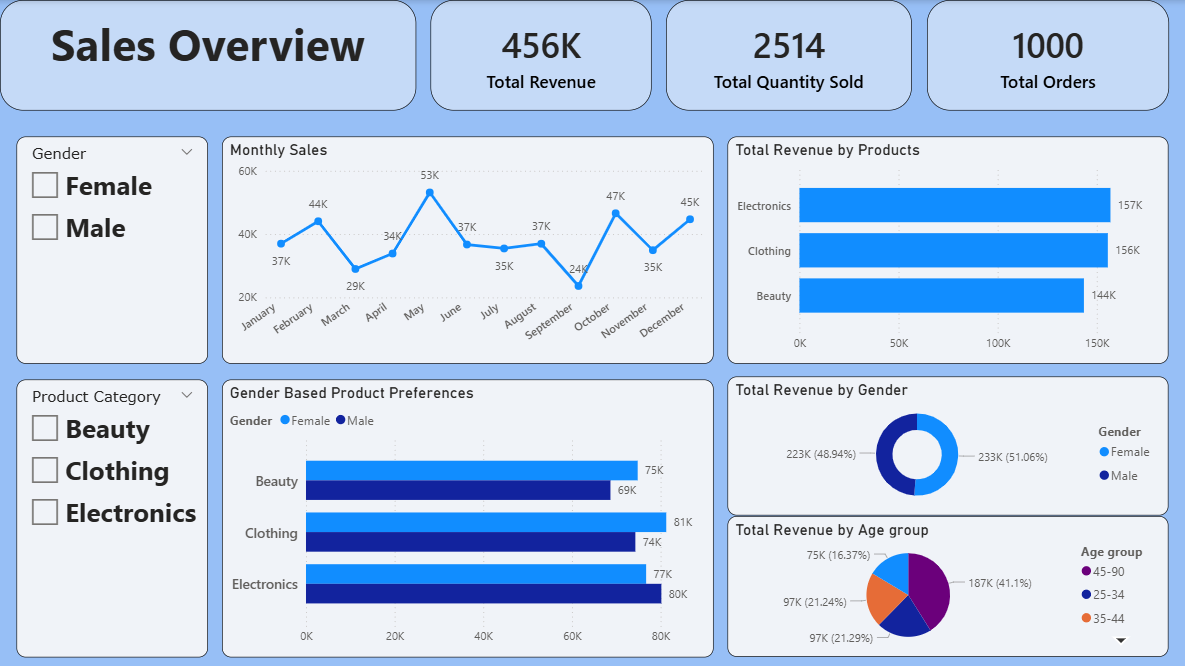

The dashboard page shown, as its layout file describes it:
{"tool":"powerbi","page":{"name":"Page 1","canvas":[1280,720],"ordinal":0},"visuals":[{"type":"card","fields":{"Values":["retail_sales_dataset.Total Revenue"]},"box":[465.1,0,239,119.5],"z":0},{"type":"card","fields":{"Values":["retail_sales_dataset.Total Quantity Sold"]},"box":[719.7,0,265.3,119.5],"z":1000},{"type":"card","fields":{"Values":["retail_sales_dataset.Total Orders"]},"box":[1000.5,0,261.3,119.5],"z":2000},{"type":"textbox","box":[0,0,449.6,119.5],"z":3000},{"type":"lineChart","title":"Monthly Sales","fields":{"Category":["retail_sales_dataset.Date.Variation.Date Hierarchy.Month"],"Y":["retail_sales_dataset.Total Revenue"]},"box":[239,147.8,530.6,245.1],"z":3001},{"type":"clusteredBarChart","title":"Total Revenue by Products","fields":{"Category":["retail_sales_dataset.Product Category"],"Y":["retail_sales_dataset.Total Revenue"]},"box":[785.8,147.8,475.9,245.1],"z":3002},{"type":"donutChart","fields":{"Category":["retail_sales_dataset.Gender"],"Y":["retail_sales_dataset.Total Revenue"]},"box":[785.8,407.1,475.9,149.9],"z":3003},{"type":"pieChart","fields":{"Category":["retail_sales_dataset.Age group"],"Y":["retail_sales_dataset.Total Revenue"]},"box":[785.8,557,475.9,151.9],"z":3004},{"type":"clusteredBarChart","title":"Gender Based Product Preferences","fields":{"Category":["retail_sales_dataset.Product Category"],"Series":["retail_sales_dataset.Gender"],"Y":["Sum(retail_sales_dataset.Total Amount)"]},"box":[239,409.1,530.6,299.7],"z":3005},{"type":"slicer","fields":{"Values":["retail_sales_dataset.Gender"]},"box":[18,147,206.6,245.1],"z":3006},{"type":"slicer","fields":{"Values":["retail_sales_dataset.Product Category"]},"box":[18.2,409.1,206.6,299.7],"z":3007}]}

Visuals, with their boxes in screenshot pixels (x1, y1, x2, y2), scaled from the page's 1280x720 canvas onto the 1185x666 screenshot:
card - retail_sales_dataset.Total Revenue: locate(431, 0, 652, 111)
card - retail_sales_dataset.Total Quantity Sold: locate(666, 0, 912, 111)
card - retail_sales_dataset.Total Orders: locate(926, 0, 1168, 111)
textbox: locate(0, 0, 416, 111)
"Monthly Sales" lineChart: locate(221, 137, 712, 363)
"Total Revenue by Products" clusteredBarChart: locate(727, 137, 1168, 363)
donutChart - retail_sales_dataset.Gender x retail_sales_dataset.Total Revenue: locate(727, 377, 1168, 515)
pieChart - retail_sales_dataset.Age group x retail_sales_dataset.Total Revenue: locate(727, 515, 1168, 656)
"Gender Based Product Preferences" clusteredBarChart: locate(221, 378, 712, 656)
slicer - retail_sales_dataset.Gender: locate(17, 136, 208, 363)
slicer - retail_sales_dataset.Product Category: locate(17, 378, 208, 656)
